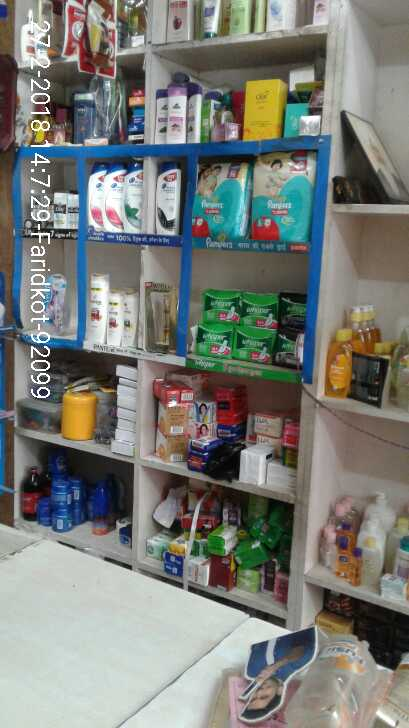venus: (38, 275, 67, 332)
